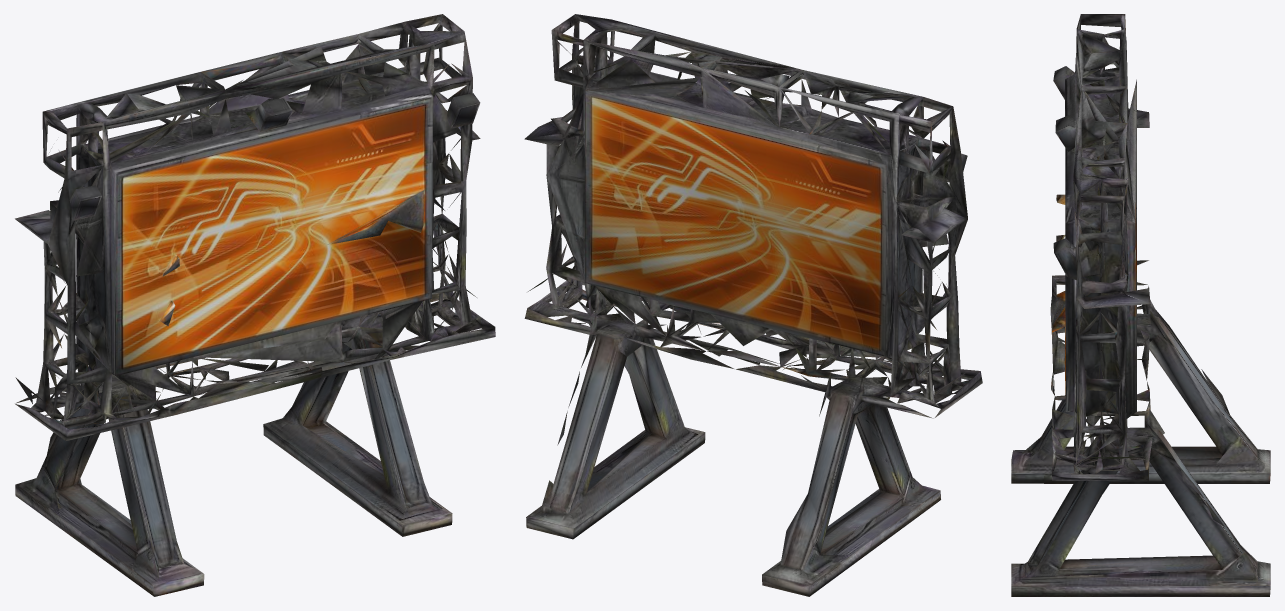
The model's file is bigscreen.glb.
3 renders of one model, left to right at view 1: azimuth 30°, elevation 25°; view 2: azimuth 150°, elevation 25°; view 3: azimuth 270°, elevation 25°, orthographic. The views are drawn at different scales.
Visible parts, largest first — view 1: Mesh_0; view 2: Mesh_0; view 3: Mesh_0.
Boxes of the visible parts, x1,y1,x2,y2 form: Mesh_0: [15, 14, 495, 596]; Mesh_0: [524, 14, 982, 596]; Mesh_0: [1011, 14, 1270, 596].
Bounding box in the file's own units: 1.9 × 1.9 × 1.05.
Materials: 1 (1 with a texture image).
